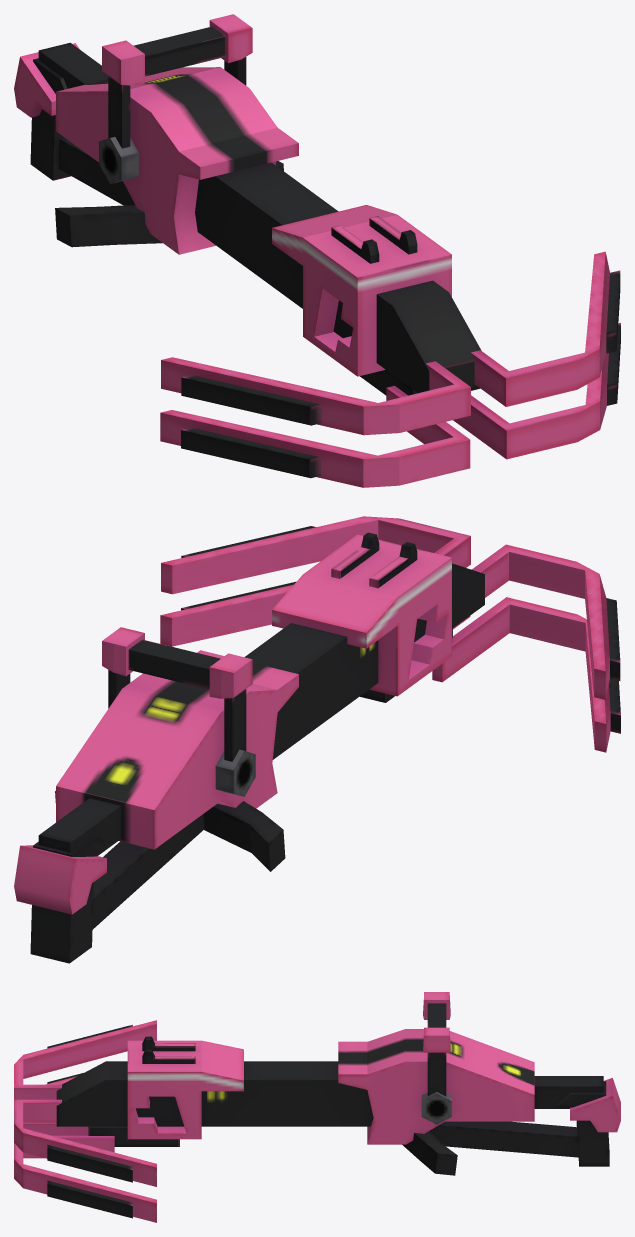
The model's file is crossbow.fbx.
3 renders of one model, top to bottom at view 1: azimuth 30°, elevation 25°; view 2: azimuth 150°, elevation 25°; view 3: azimuth 270°, elevation 25°, orthographic. The views are drawn at different scales.
Visible parts, largest first — view 1: crossbow1; view 2: crossbow1; view 3: crossbow1.
Part boxes in pixels (bbox=[...]): crossbow1: bbox=[14, 14, 620, 487]; crossbow1: bbox=[14, 516, 620, 963]; crossbow1: bbox=[14, 992, 620, 1222].
Size of the model in its own units: 11.43 by 5.28 by 19.84.
Materials: 1 (1 with a texture image).
